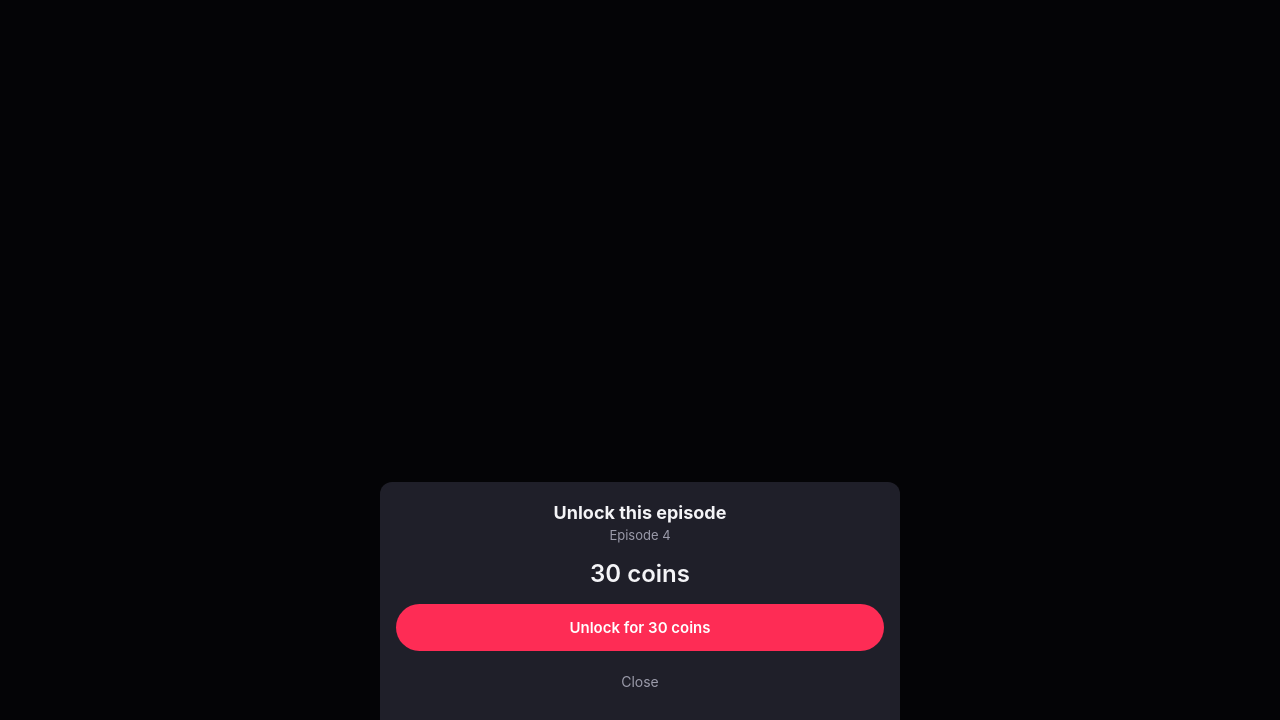
Test: a purchase that failed › offers no retry when a repeat cannot help or could charge twice
Later steps or results of the test are not shown.
Click the button with test id "unlock-confirm" at point(640, 628), box [396,604,884,651]
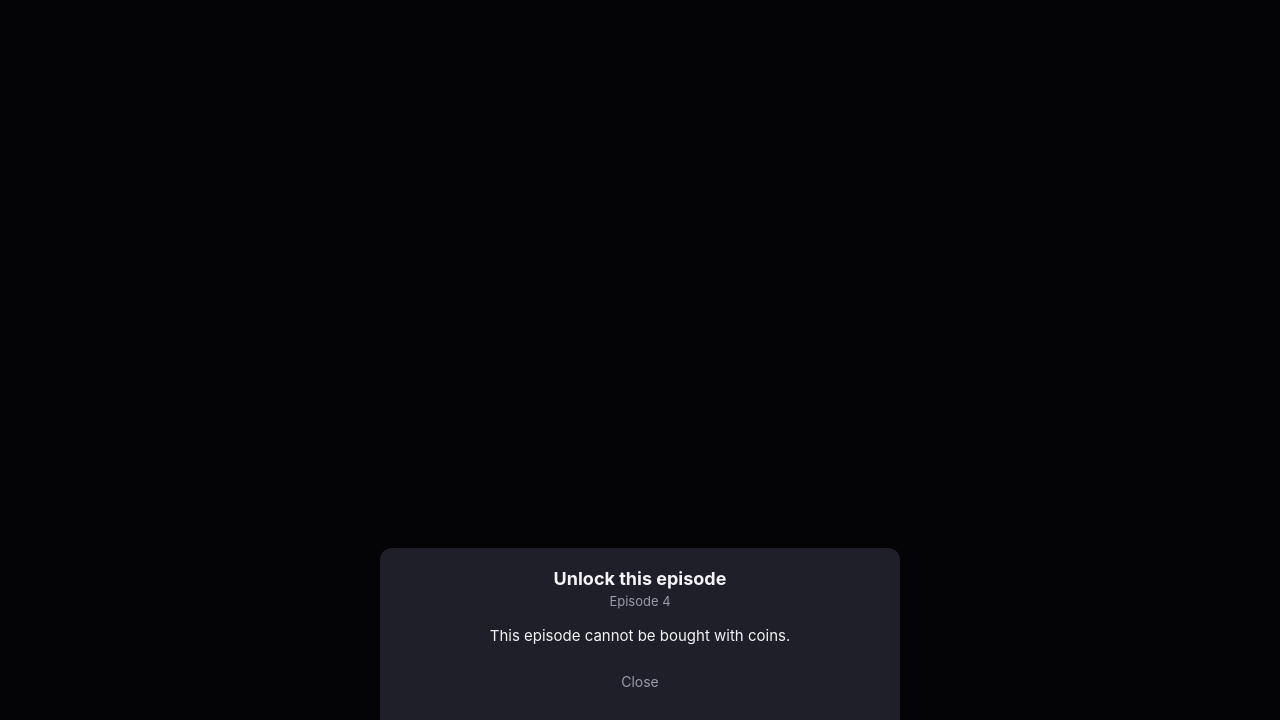
Check: the message "This episode cannot be bought with coins." is shown, box [490,626,790,645]
